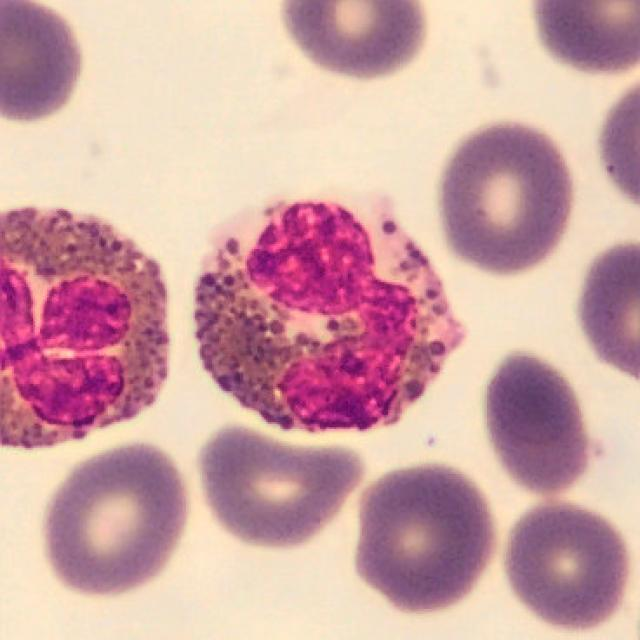Eosinofilo: (193, 199, 466, 434), (0, 208, 170, 450)
